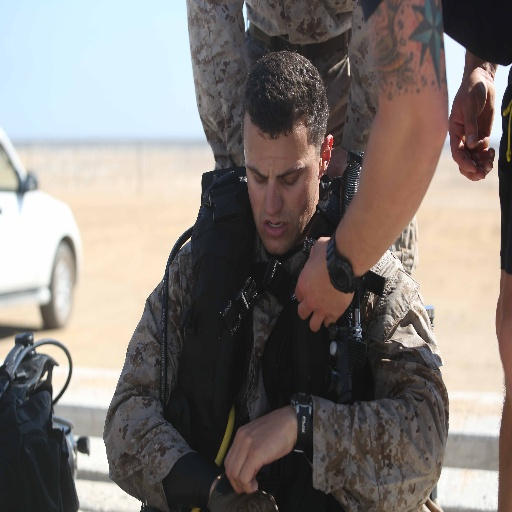hand: (220, 406, 310, 494), (295, 236, 355, 332), (448, 65, 494, 181)
